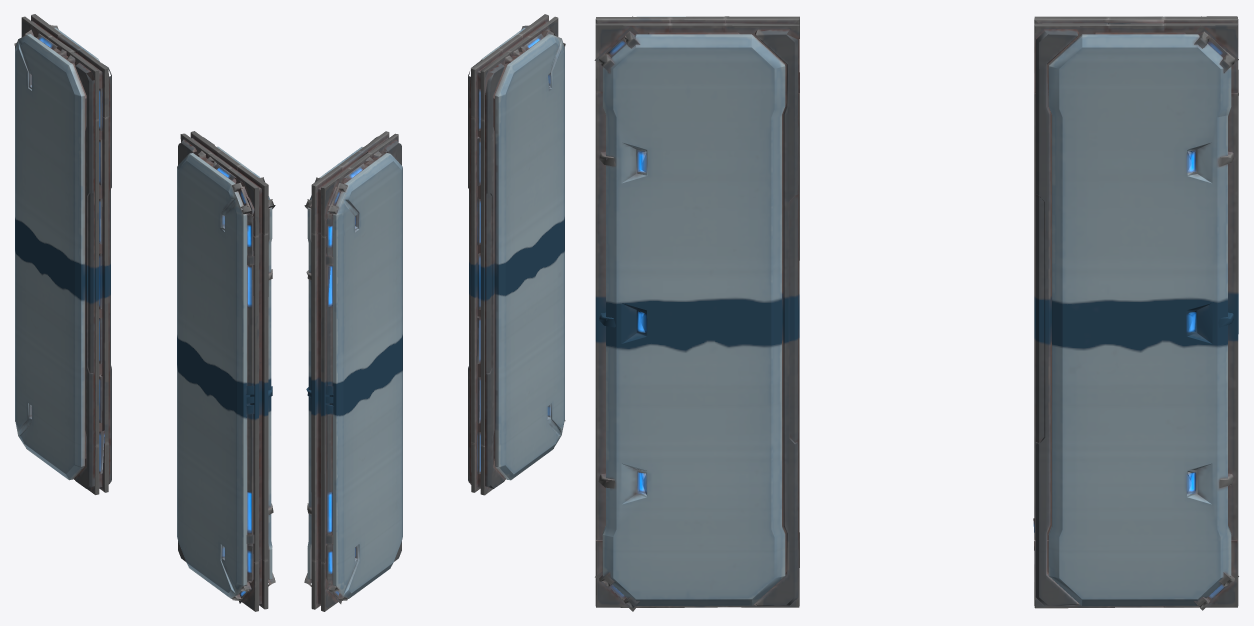
Rendered from Doorframe_Tek_C.glb.
3 renders of one model, left to right at view 1: azimuth 30°, elevation 25°; view 2: azimuth 150°, elevation 25°; view 3: azimuth 270°, elevation 25°, orthographic. The views are drawn at different scales.
Parts seen in each view (by area): view 1: SM_Tek_WallDoorway; view 2: SM_Tek_WallDoorway; view 3: SM_Tek_WallDoorway.
Part boxes in pixels (<box>): SM_Tek_WallDoorway: <box>14,14,275,611</box>; SM_Tek_WallDoorway: <box>304,14,565,611</box>; SM_Tek_WallDoorway: <box>594,16,1238,611</box>.
Size of the model in its own units: 0.274 by 3.03 by 3.01.
1 material, 1 textured.
